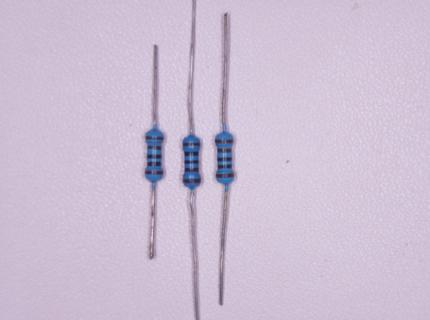Black band: (184, 151, 198, 155), (148, 162, 161, 166), (219, 165, 231, 169), (185, 160, 199, 163), (218, 158, 232, 161), (148, 155, 161, 158)
Brown band: (217, 173, 234, 178), (145, 136, 164, 140), (183, 179, 200, 183), (148, 145, 161, 150), (218, 148, 231, 153), (145, 171, 163, 174), (183, 143, 200, 146), (216, 140, 233, 143), (185, 168, 198, 171)
